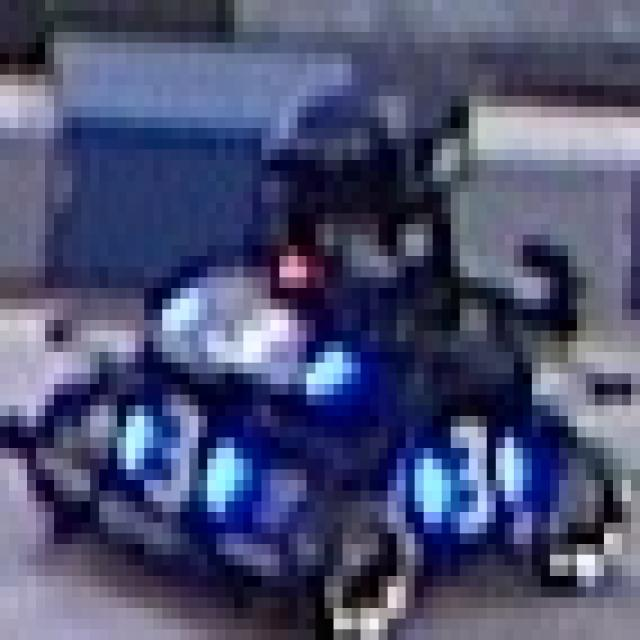B3: (406, 406, 532, 534), (118, 394, 244, 522)
